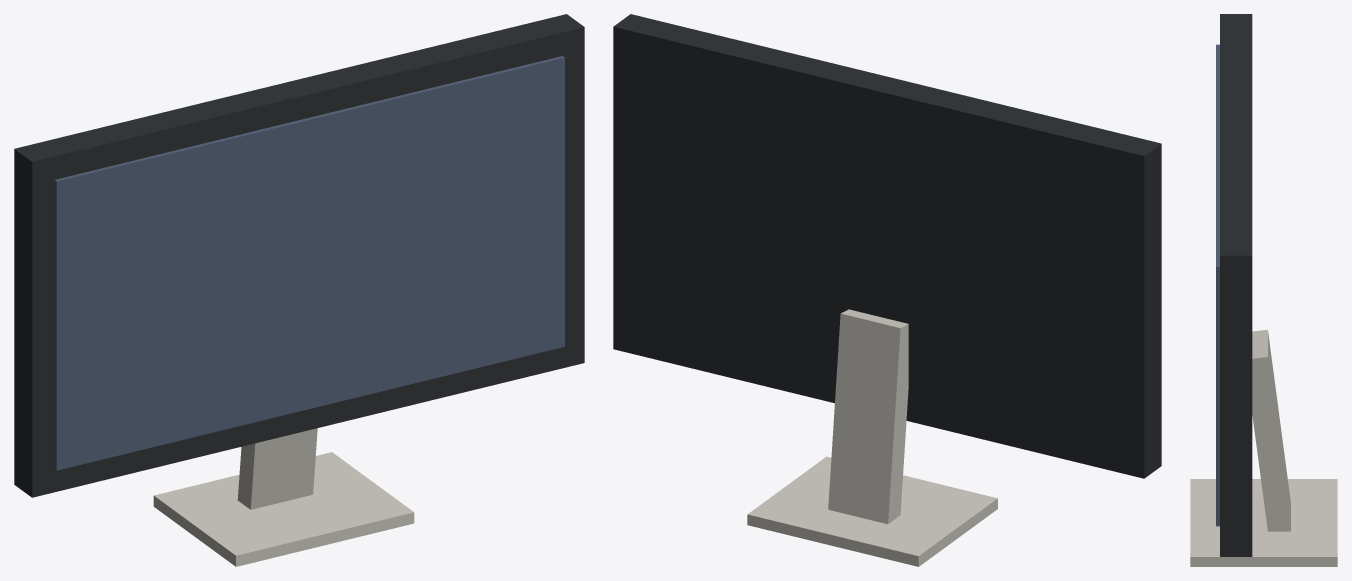
File: monitor.glb
3 renders of one model, left to right at view 1: azimuth 30°, elevation 25°; view 2: azimuth 150°, elevation 25°; view 3: azimuth 270°, elevation 25°, orthographic. The views are drawn at different scales.
Visible parts, largest first — view 1: monitor; view 2: monitor; view 3: monitor.
Part boxes in pixels (bbox=[...]): monitor: bbox=[14, 14, 584, 566]; monitor: bbox=[613, 14, 1161, 566]; monitor: bbox=[1190, 14, 1337, 566].
Size of the model in its own units: 0.62 by 0.4707 by 0.16.
